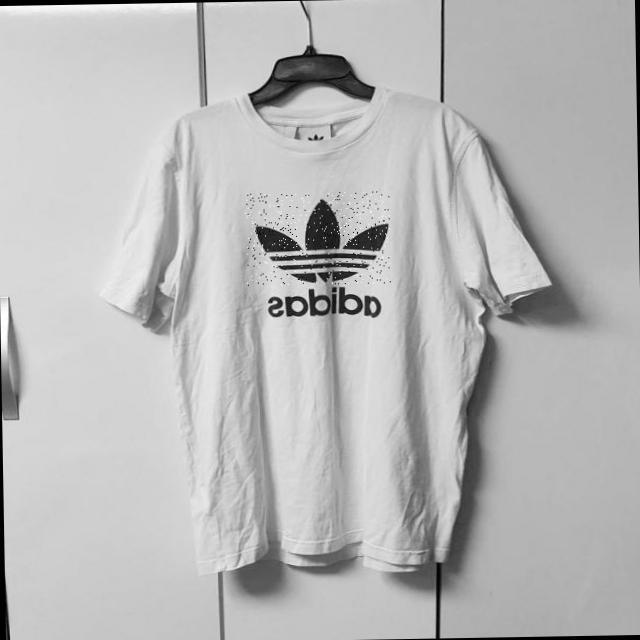Adidas: (245, 191, 390, 285)
